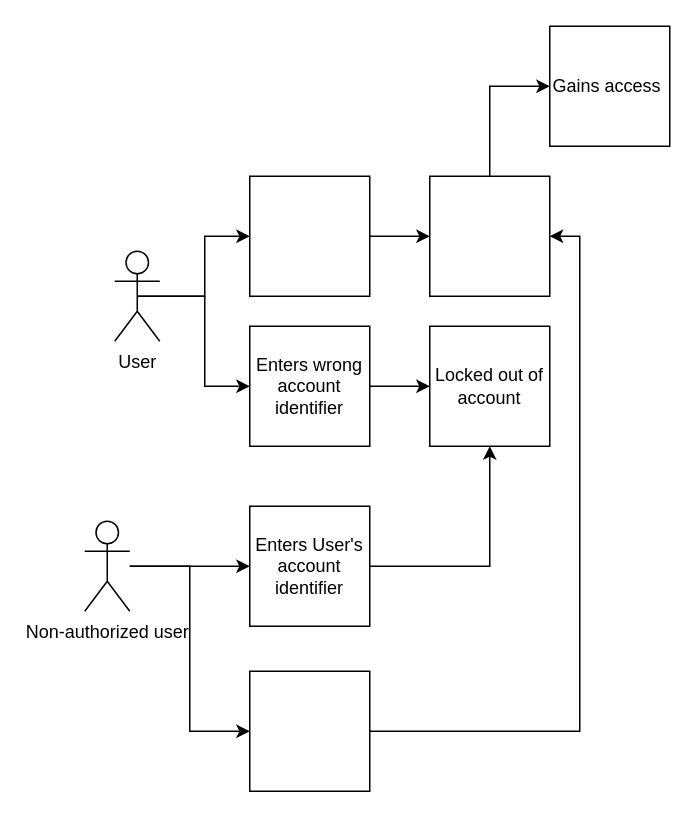
Some shapes in this 696 by 818 pixel diagram are drawn without their labels. Each missing label, with the centre of its shape:
"Creates new account" belongs at (x=309, y=730).
"Enters unique account identifier" belongs at (x=309, y=235).
"Types phrase naturally" belongs at (x=489, y=235).
